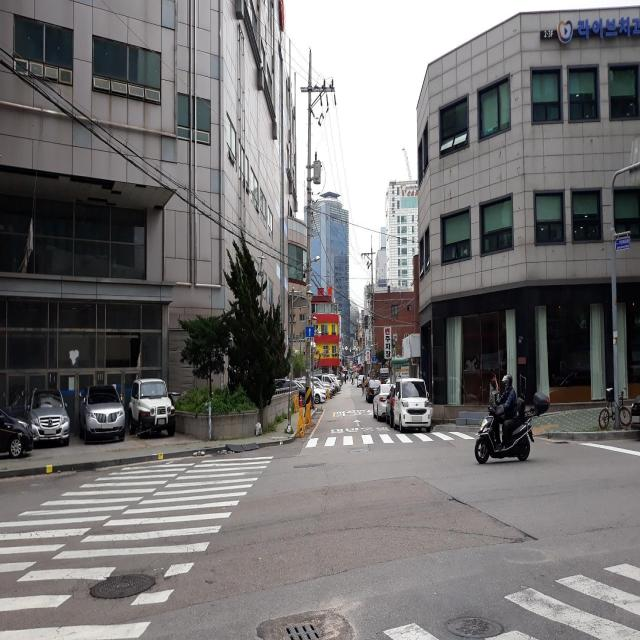초록불: (379, 543, 640, 640), (306, 430, 487, 450)
횡단보도: (0, 453, 275, 639)
